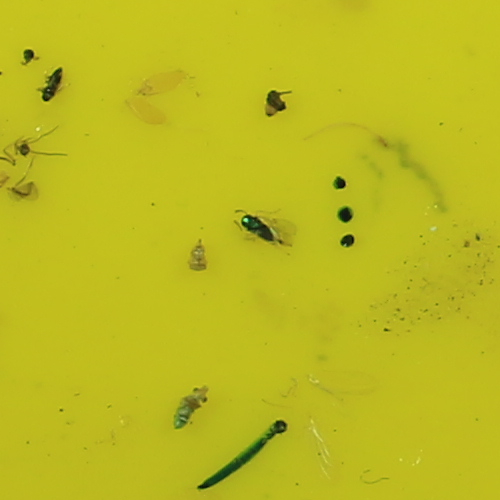Glycaspis: (171, 382, 211, 428)
Psyllaephagus: (240, 212, 287, 248)
